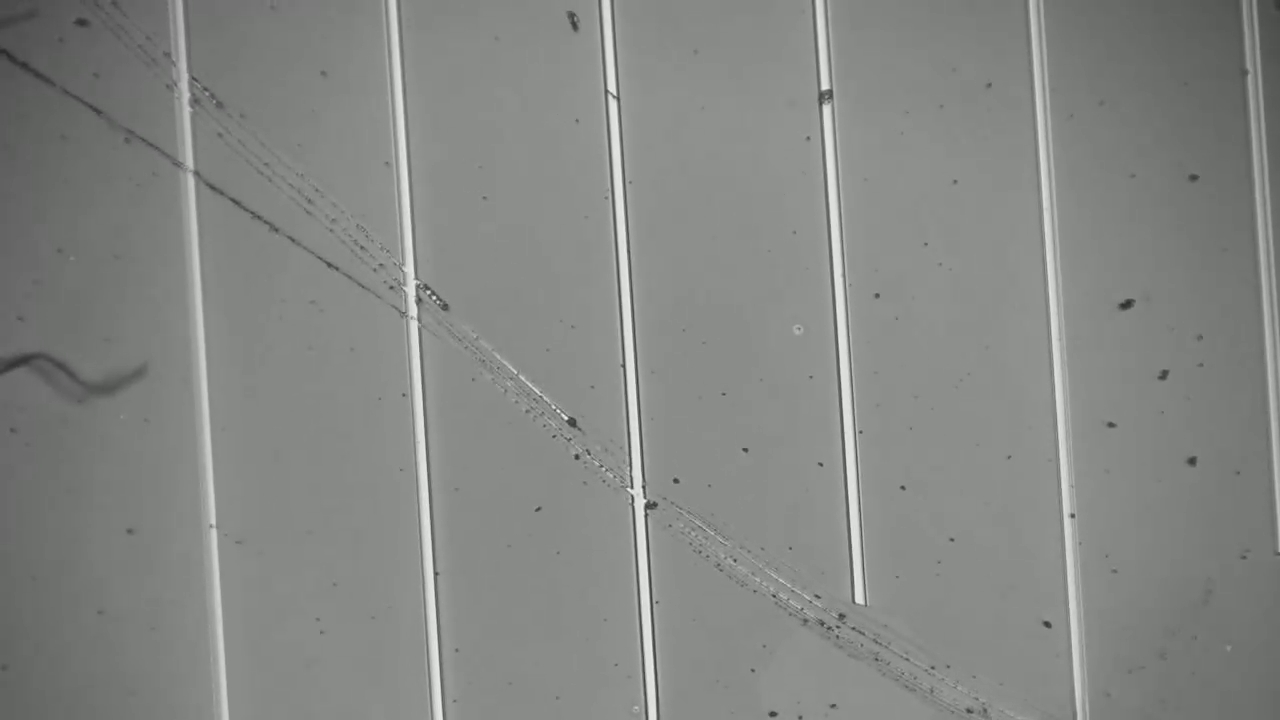scratch: (84, 1, 1001, 710), (2, 51, 404, 322)
stains_enbedded: (811, 77, 846, 111)
